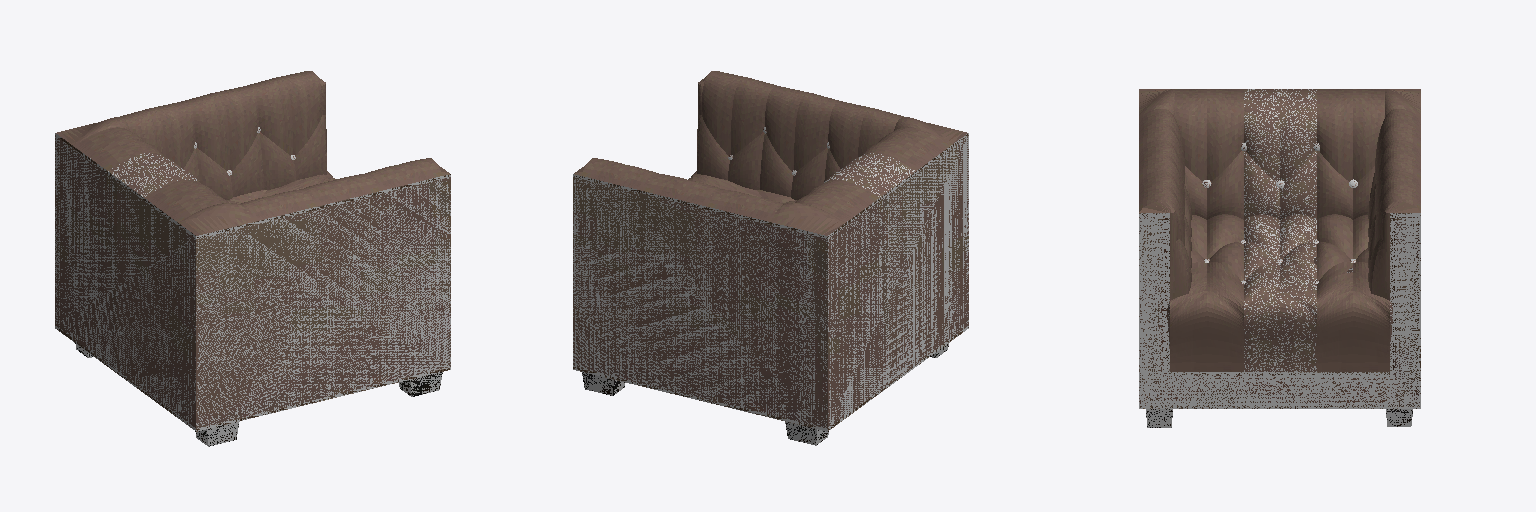
3 views of the same model, side by side, from view 1: azimuth 30°, elevation 25°; view 2: azimuth 150°, elevation 25°; view 3: azimuth 270°, elevation 25° (orthographic).
Visible parts, largest first — view 1: mesh11.001_mesh11-geometry, mesh73.006_mesh73-geometry, mesh73.004_mesh73-geometry, mesh72.004_mesh72-geometry, mesh72.006_mesh72-geometry, mesh72.005_mesh72-geometry, mesh75.004_mesh75-geometry, mesh74.006_mesh74-geometry, mesh74.004_mesh74-geometry, mesh73.005_mesh73-geometry, mesh54.002_mesh54-geometry, mesh41.002_mesh41-geometry (+16 smaller); view 2: mesh11.001_mesh11-geometry, mesh29.006_mesh29-geometry, mesh29.005_mesh29-geometry, mesh28.005_mesh28-geometry, mesh28.006_mesh28-geometry, mesh28.004_mesh28-geometry, mesh31.005_mesh31-geometry, mesh30.006_mesh30-geometry, mesh30.005_mesh30-geometry, mesh29.004_mesh29-geometry, mesh55.002_mesh55-geometry, mesh66.002_mesh66-geometry (+16 smaller); view 3: mesh11.001_mesh11-geometry, mesh47.002_mesh47-geometry, mesh69.002_mesh69-geometry, mesh34.002_mesh34-geometry, mesh55.002_mesh55-geometry, mesh66.002_mesh66-geometry, mesh54.002_mesh54-geometry, mesh41.002_mesh41-geometry, mesh42.002_mesh42-geometry, mesh65.002_mesh65-geometry, mesh68.002_mesh68-geometry, mesh57.002_mesh57-geometry (+28 smaller).
Boxes of the visible parts, x1=… form: mesh11.001_mesh11-geometry: x1=55, y1=133, x2=450, y2=431; mesh73.006_mesh73-geometry: x1=181, y1=93, x2=229, y2=170; mesh73.004_mesh73-geometry: x1=247, y1=77, x2=292, y2=155; mesh72.004_mesh72-geometry: x1=280, y1=71, x2=321, y2=155; mesh72.006_mesh72-geometry: x1=215, y1=86, x2=258, y2=170; mesh72.005_mesh72-geometry: x1=153, y1=102, x2=195, y2=168; mesh75.004_mesh75-geometry: x1=259, y1=132, x2=295, y2=189; mesh74.006_mesh74-geometry: x1=230, y1=134, x2=263, y2=196; mesh74.004_mesh74-geometry: x1=294, y1=117, x2=326, y2=179; mesh73.005_mesh73-geometry: x1=120, y1=108, x2=165, y2=156; mesh54.002_mesh54-geometry: x1=126, y1=165, x2=199, y2=196; mesh41.002_mesh41-geometry: x1=89, y1=138, x2=162, y2=170; mesh11.001_mesh11-geometry: x1=573, y1=133, x2=968, y2=431; mesh29.006_mesh29-geometry: x1=794, y1=93, x2=842, y2=170; mesh29.005_mesh29-geometry: x1=731, y1=77, x2=776, y2=155; mesh28.005_mesh28-geometry: x1=702, y1=71, x2=743, y2=155; mesh28.006_mesh28-geometry: x1=765, y1=86, x2=808, y2=170; mesh28.004_mesh28-geometry: x1=828, y1=102, x2=870, y2=168; mesh31.005_mesh31-geometry: x1=728, y1=132, x2=764, y2=189; mesh30.006_mesh30-geometry: x1=760, y1=134, x2=793, y2=196; mesh30.005_mesh30-geometry: x1=697, y1=117, x2=729, y2=179; mesh29.004_mesh29-geometry: x1=858, y1=108, x2=903, y2=156; mesh55.002_mesh55-geometry: x1=824, y1=165, x2=897, y2=197; mesh66.002_mesh66-geometry: x1=861, y1=138, x2=933, y2=170; mesh11.001_mesh11-geometry: x1=1139, y1=213, x2=1420, y2=408; mesh47.002_mesh47-geometry: x1=1244, y1=262, x2=1316, y2=371; mesh69.002_mesh69-geometry: x1=1170, y1=262, x2=1243, y2=371; mesh34.002_mesh34-geometry: x1=1317, y1=262, x2=1389, y2=371; mesh55.002_mesh55-geometry: x1=1280, y1=89, x2=1316, y2=180; mesh66.002_mesh66-geometry: x1=1207, y1=89, x2=1243, y2=180; mesh54.002_mesh54-geometry: x1=1244, y1=89, x2=1279, y2=180; mesh41.002_mesh41-geometry: x1=1317, y1=89, x2=1352, y2=181; mesh42.002_mesh42-geometry: x1=1353, y1=89, x2=1389, y2=181; mesh65.002_mesh65-geometry: x1=1170, y1=89, x2=1206, y2=180; mesh68.002_mesh68-geometry: x1=1207, y1=151, x2=1243, y2=219; mesh57.002_mesh57-geometry: x1=1280, y1=151, x2=1316, y2=219.
Bounding box in the file's own units: 0.6214 × 0.5228 × 0.5835.
Materials: 12 (11 with a texture image).